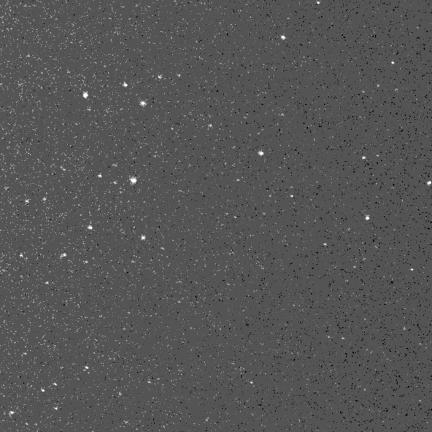blob: (140, 101, 148, 107), (130, 177, 136, 184), (83, 92, 88, 98), (123, 82, 128, 88), (141, 235, 145, 240), (365, 215, 369, 220), (281, 36, 286, 40), (259, 151, 263, 155), (41, 388, 45, 392), (98, 174, 102, 178), (88, 225, 92, 229), (427, 181, 431, 185), (362, 156, 366, 159), (392, 62, 395, 65)
